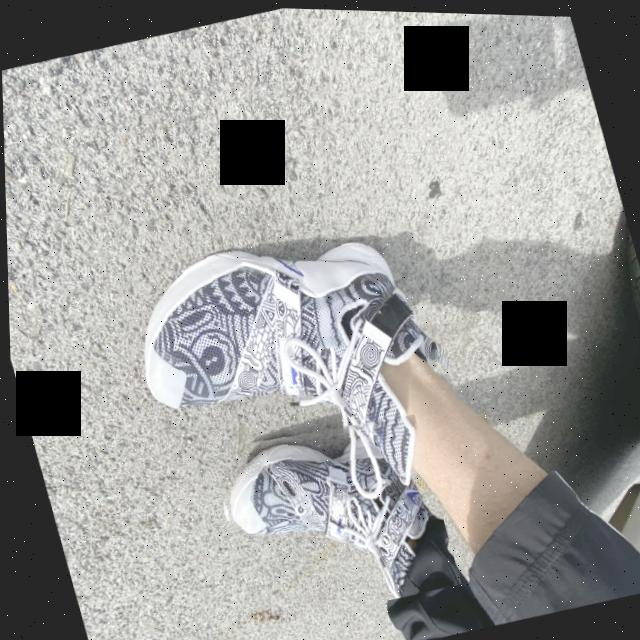shoe: (110, 199, 477, 538), (204, 397, 459, 632)
